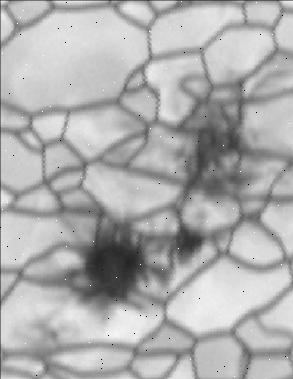good_void: (62, 200, 208, 323), (167, 58, 272, 207), (7, 310, 71, 359)
